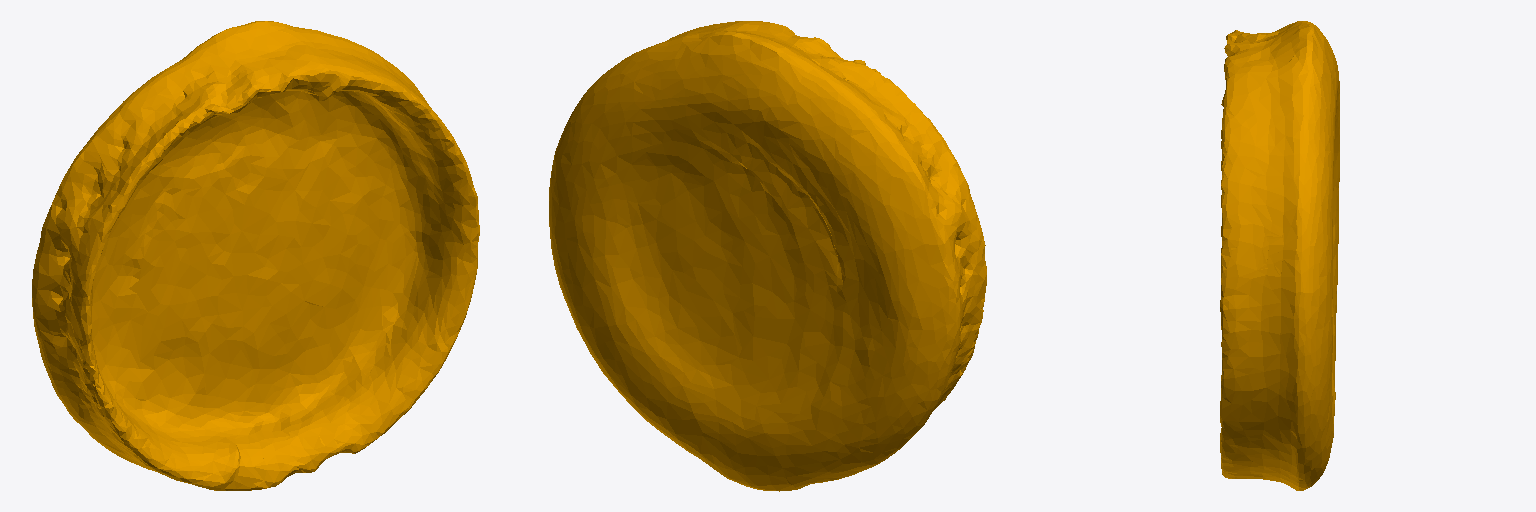
URDF robot description (juicerlip):
<?xml version="1.0" ?>
<!-- auto-generated by gen_object_urdf.py (TactiDex import) -->
<robot name="juicerlip">
  <link name="bottom">
    <inertial>
      <origin rpy="0 0 0" xyz="-0.00045594709 -0.0027220979 -0.00042310525"/>
      <mass value="0.2"/>
      <inertia ixx="0.00013647952" ixy="2.3601954e-06" ixz="-5.5455898e-07"
               iyy="0.00025040968" iyz="-2.7562619e-07" izz="0.00013351417"/>
    </inertial>
    <visual>
      <origin rpy="0 0 0" xyz="0 0 0"/>
      <geometry><mesh filename="juicerlip.obj" scale="1 1 1"/></geometry>
    </visual>
      <collision>
        <origin rpy="0 0 0" xyz="0 0 0"/>
        <geometry><mesh filename="collision_parts/part_000.obj" scale="1 1 1"/></geometry>
      </collision>
      <collision>
        <origin rpy="0 0 0" xyz="0 0 0"/>
        <geometry><mesh filename="collision_parts/part_001.obj" scale="1 1 1"/></geometry>
      </collision>
      <collision>
        <origin rpy="0 0 0" xyz="0 0 0"/>
        <geometry><mesh filename="collision_parts/part_002.obj" scale="1 1 1"/></geometry>
      </collision>
      <collision>
        <origin rpy="0 0 0" xyz="0 0 0"/>
        <geometry><mesh filename="collision_parts/part_003.obj" scale="1 1 1"/></geometry>
      </collision>
      <collision>
        <origin rpy="0 0 0" xyz="0 0 0"/>
        <geometry><mesh filename="collision_parts/part_004.obj" scale="1 1 1"/></geometry>
      </collision>
      <collision>
        <origin rpy="0 0 0" xyz="0 0 0"/>
        <geometry><mesh filename="collision_parts/part_005.obj" scale="1 1 1"/></geometry>
      </collision>
      <collision>
        <origin rpy="0 0 0" xyz="0 0 0"/>
        <geometry><mesh filename="collision_parts/part_006.obj" scale="1 1 1"/></geometry>
      </collision>
      <collision>
        <origin rpy="0 0 0" xyz="0 0 0"/>
        <geometry><mesh filename="collision_parts/part_007.obj" scale="1 1 1"/></geometry>
      </collision>
      <collision>
        <origin rpy="0 0 0" xyz="0 0 0"/>
        <geometry><mesh filename="collision_parts/part_008.obj" scale="1 1 1"/></geometry>
      </collision>
      <collision>
        <origin rpy="0 0 0" xyz="0 0 0"/>
        <geometry><mesh filename="collision_parts/part_009.obj" scale="1 1 1"/></geometry>
      </collision>
      <collision>
        <origin rpy="0 0 0" xyz="0 0 0"/>
        <geometry><mesh filename="collision_parts/part_010.obj" scale="1 1 1"/></geometry>
      </collision>
      <collision>
        <origin rpy="0 0 0" xyz="0 0 0"/>
        <geometry><mesh filename="collision_parts/part_011.obj" scale="1 1 1"/></geometry>
      </collision>
      <collision>
        <origin rpy="0 0 0" xyz="0 0 0"/>
        <geometry><mesh filename="collision_parts/part_012.obj" scale="1 1 1"/></geometry>
      </collision>
      <collision>
        <origin rpy="0 0 0" xyz="0 0 0"/>
        <geometry><mesh filename="collision_parts/part_013.obj" scale="1 1 1"/></geometry>
      </collision>
      <collision>
        <origin rpy="0 0 0" xyz="0 0 0"/>
        <geometry><mesh filename="collision_parts/part_014.obj" scale="1 1 1"/></geometry>
      </collision>
      <collision>
        <origin rpy="0 0 0" xyz="0 0 0"/>
        <geometry><mesh filename="collision_parts/part_015.obj" scale="1 1 1"/></geometry>
      </collision>
      <collision>
        <origin rpy="0 0 0" xyz="0 0 0"/>
        <geometry><mesh filename="collision_parts/part_016.obj" scale="1 1 1"/></geometry>
      </collision>
      <collision>
        <origin rpy="0 0 0" xyz="0 0 0"/>
        <geometry><mesh filename="collision_parts/part_017.obj" scale="1 1 1"/></geometry>
      </collision>
      <collision>
        <origin rpy="0 0 0" xyz="0 0 0"/>
        <geometry><mesh filename="collision_parts/part_018.obj" scale="1 1 1"/></geometry>
      </collision>
      <collision>
        <origin rpy="0 0 0" xyz="0 0 0"/>
        <geometry><mesh filename="collision_parts/part_019.obj" scale="1 1 1"/></geometry>
      </collision>
      <collision>
        <origin rpy="0 0 0" xyz="0 0 0"/>
        <geometry><mesh filename="collision_parts/part_020.obj" scale="1 1 1"/></geometry>
      </collision>
      <collision>
        <origin rpy="0 0 0" xyz="0 0 0"/>
        <geometry><mesh filename="collision_parts/part_021.obj" scale="1 1 1"/></geometry>
      </collision>
      <collision>
        <origin rpy="0 0 0" xyz="0 0 0"/>
        <geometry><mesh filename="collision_parts/part_022.obj" scale="1 1 1"/></geometry>
      </collision>
      <collision>
        <origin rpy="0 0 0" xyz="0 0 0"/>
        <geometry><mesh filename="collision_parts/part_023.obj" scale="1 1 1"/></geometry>
      </collision>
  </link>
</robot>

--- Render facts (derived) ---
Views: 3 orthographic renders of the robot side by side, from view 1: azimuth 30°, elevation 25°; view 2: azimuth 150°, elevation 25°; view 3: azimuth 270°, elevation 25°.
Model juicerlip with 1 links and 0 joints (none), rooted at bottom, posed all joints at 0.
Links seen in each view (by area): view 1: bottom; view 2: bottom; view 3: bottom.
Link boxes in pixels (bbox=[...]): bottom: bbox=[32, 21, 479, 490]; bottom: bbox=[549, 21, 986, 491]; bottom: bbox=[1220, 21, 1339, 490].
Bounding box of the posed robot: 0.1034 × 0.0265 × 0.108 m (x, y, z).
Meshes: 1 distinct files referenced, 1 mesh visuals loaded (1 OBJ).
